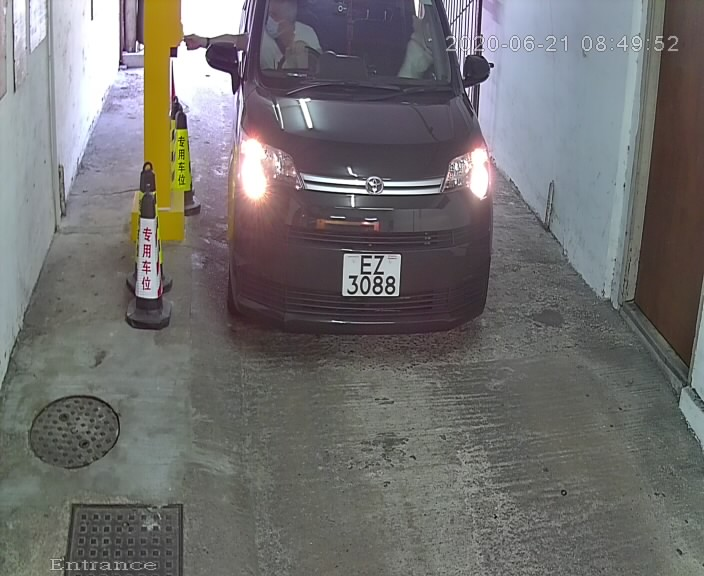privatecar: (210, 2, 513, 335)
